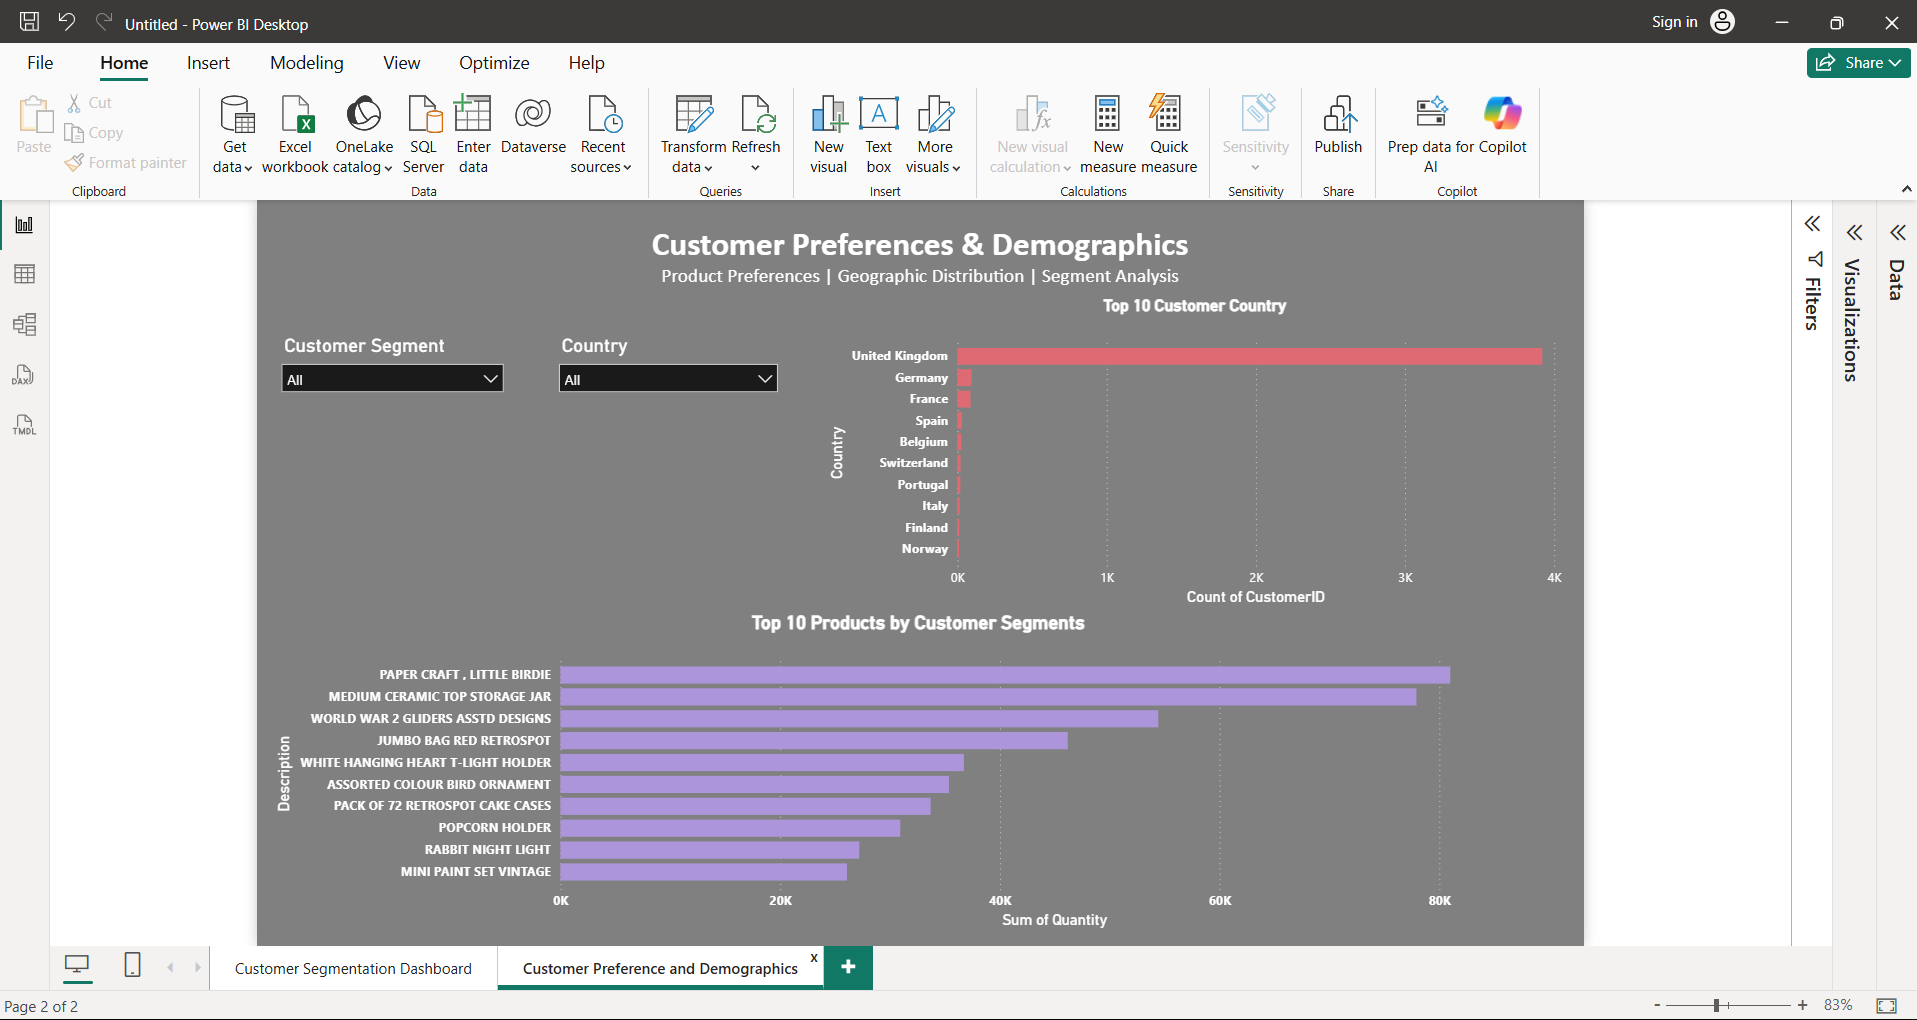

The dashboard page shown, as its layout file describes it:
{"tool":"tableau","page":{"name":"Product preference analysis","canvas":[1000,1000],"units":"permille","ordinal":1},"visuals":[{"type":"title","box":[4.8,10.5,990.4,68.4]},{"type":"worksheet","title":"Top 10 Countries","mark":"Automatic","rows":["Country"],"cols":["CustomerID"],"box":[14.5,93.4,857.8,442.1]},{"type":"filter","title":"Top 10 Countries","param":"[federated.1nxbxqc1m1g5k8155vguh0dackog].[none:Country:nk]","box":[880.1,128.9,107.2,198.7]},{"type":"filter","title":"Top 10 products","param":"[federated.0l3wy6l021wuvb177tyxk0xt5qne].[none:Segment:nk]","box":[894,529,96.4,77.6]},{"type":"worksheet","title":"Top 10 products","mark":"Automatic","rows":["Description"],"cols":["Quantity"],"box":[13.9,534.2,861.5,440.8]}]}

Visuals, with their boxes on the dashboard's canvas, which has no fixed pixel size, in thousandths of its width and height (x1, y1, x2, y2). These are canvas units, not pixel positions in the 1917x1020 screenshot, which may show the page scaled, cropped or inside an application window:
title: <box>5,10,995,79</box>
"Top 10 Countries" worksheet: <box>14,93,872,536</box>
"Top 10 Countries" filter: <box>880,129,987,328</box>
"Top 10 products" filter: <box>894,529,990,607</box>
"Top 10 products" worksheet: <box>14,534,875,975</box>
